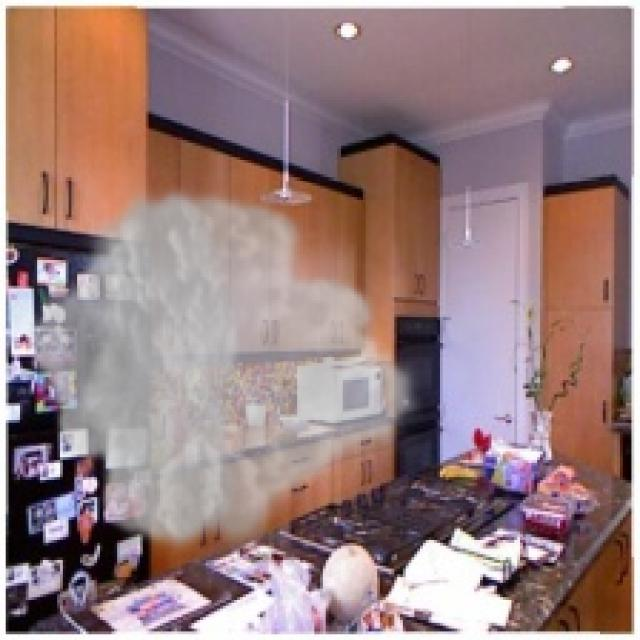smoke: (26, 180, 423, 557)
